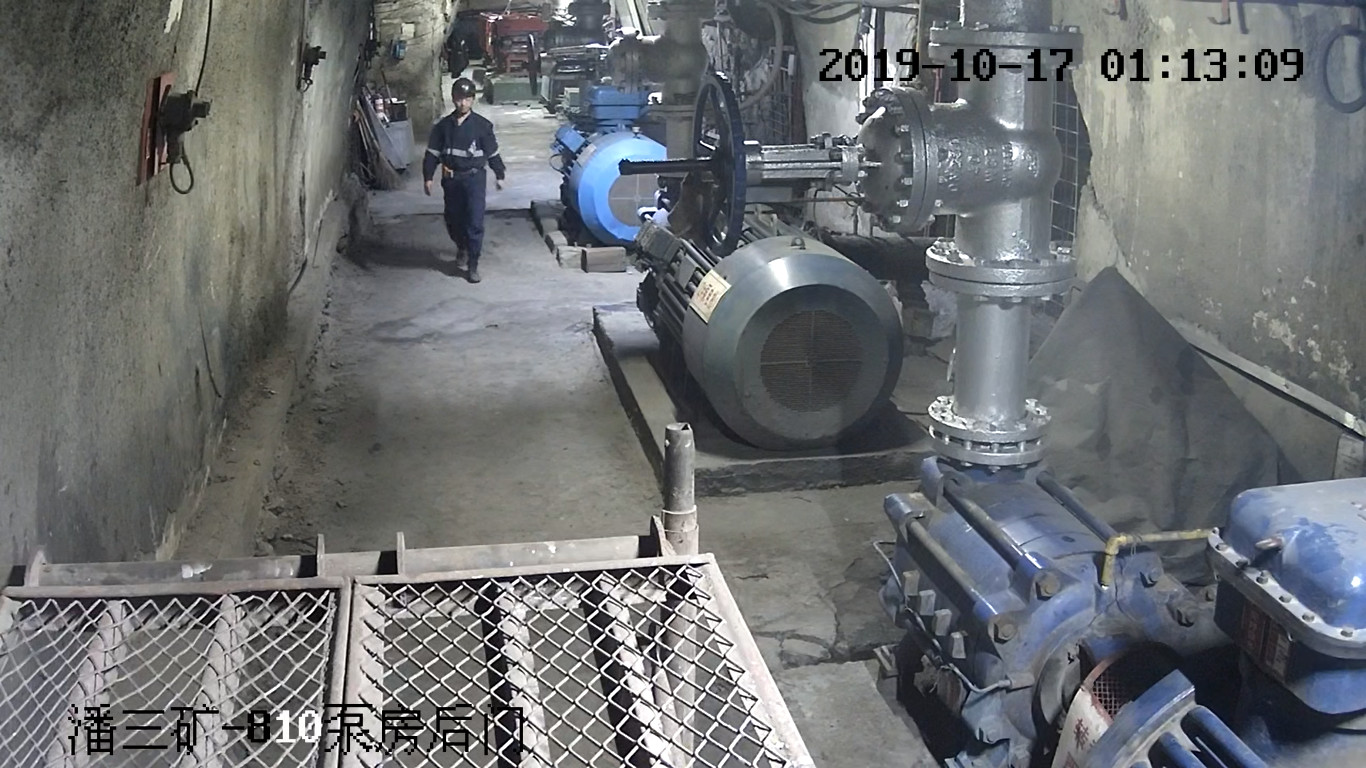helmet: (451, 77, 476, 98)
